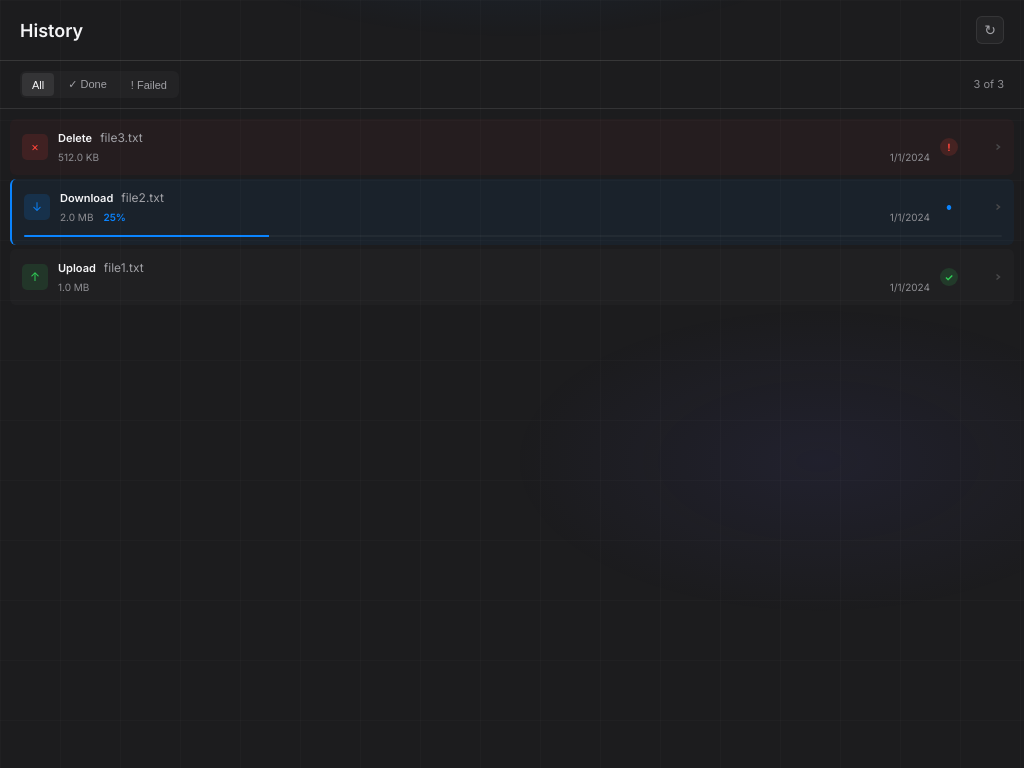
OperationHistory › Expandable Details › should expand operation details on click
This screenshot has width=1024, height=768.
Expected: the text "file1.txt" is shown, [104,260,144,275]
Click on an operation row
Click the text "file1.txt" at [77, 268], box [22,260,1002,293]
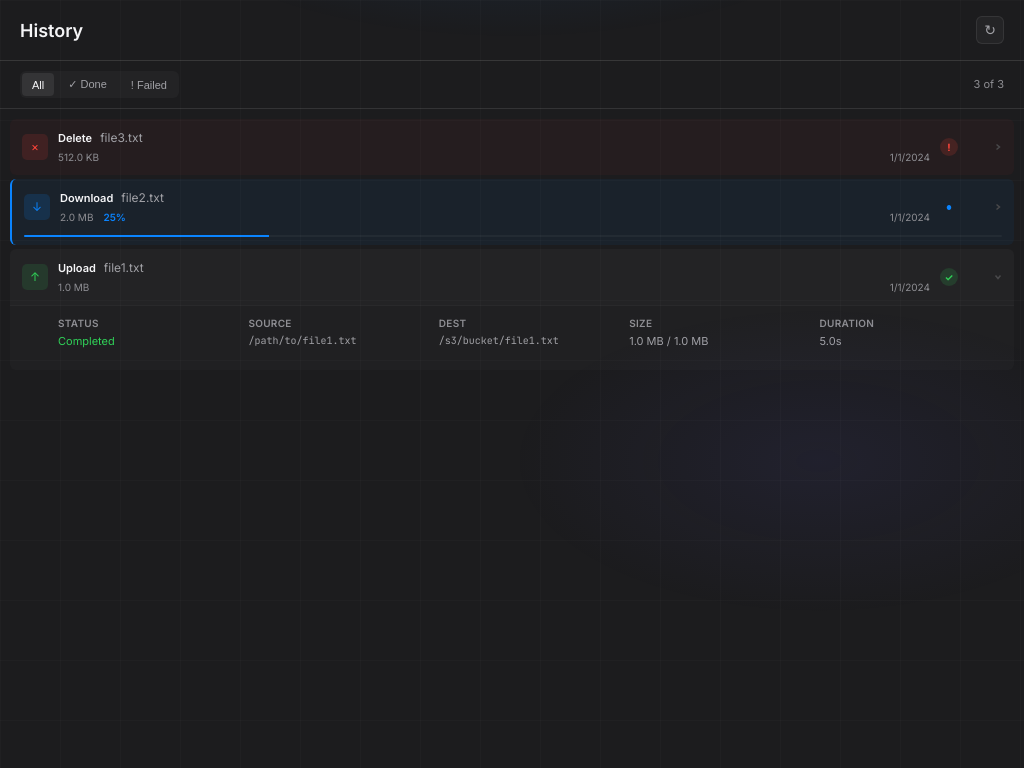
Result: the text "Status" is shown at [58,317,99,329]
Result: the text "Source" is shown at [248,317,292,329]
